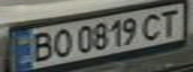0: (72, 22, 96, 54)
1: (106, 16, 127, 47)
8: (90, 19, 112, 51)
9: (121, 14, 142, 45)
B: (24, 29, 57, 64)
C: (139, 10, 169, 40)
O: (48, 26, 75, 59)
T: (154, 6, 184, 37)
